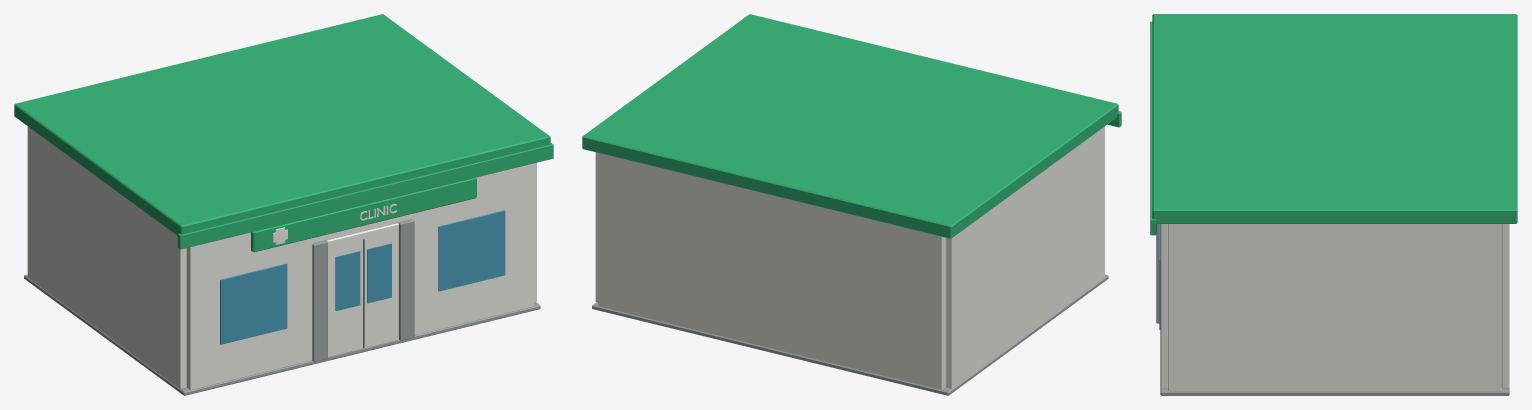
Rendered from Clinic.glb.
The picture shows the model from 3 angles, left to right: view 1: azimuth 30°, elevation 25°; view 2: azimuth 150°, elevation 25°; view 3: azimuth 270°, elevation 25°; orthographic projection. The views are drawn at different scales.
Parts seen in each view (by area): view 1: FTF_Building_SmallFarmClinic_9x7m_Mesh; view 2: FTF_Building_SmallFarmClinic_9x7m_Mesh; view 3: FTF_Building_SmallFarmClinic_9x7m_Mesh.
Boxes of the visible parts, x1,y1,x2,y2 form: FTF_Building_SmallFarmClinic_9x7m_Mesh: (14,14,553,395); FTF_Building_SmallFarmClinic_9x7m_Mesh: (582,14,1121,395); FTF_Building_SmallFarmClinic_9x7m_Mesh: (1150,14,1517,395).
Bounding box in the file's own units: 9.42 × 4.2 × 7.36.
